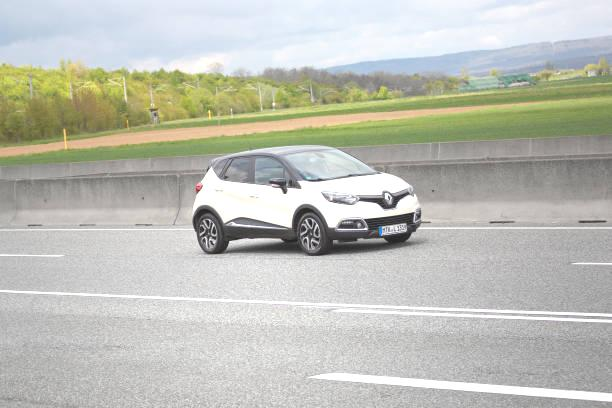Renault: (380, 187, 399, 211)
